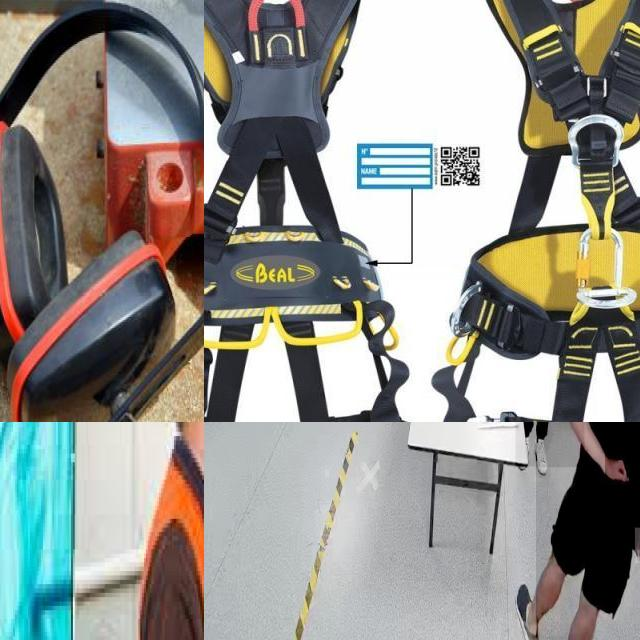Ear-protection: (0, 2, 204, 422)
Harness: (433, 0, 640, 422), (204, 0, 409, 422)
hand_noglove: (605, 451, 629, 484), (635, 527, 640, 564)
person: (536, 422, 640, 640), (126, 422, 204, 640)
shoes: (513, 573, 540, 640), (531, 430, 550, 478), (554, 583, 554, 584)
